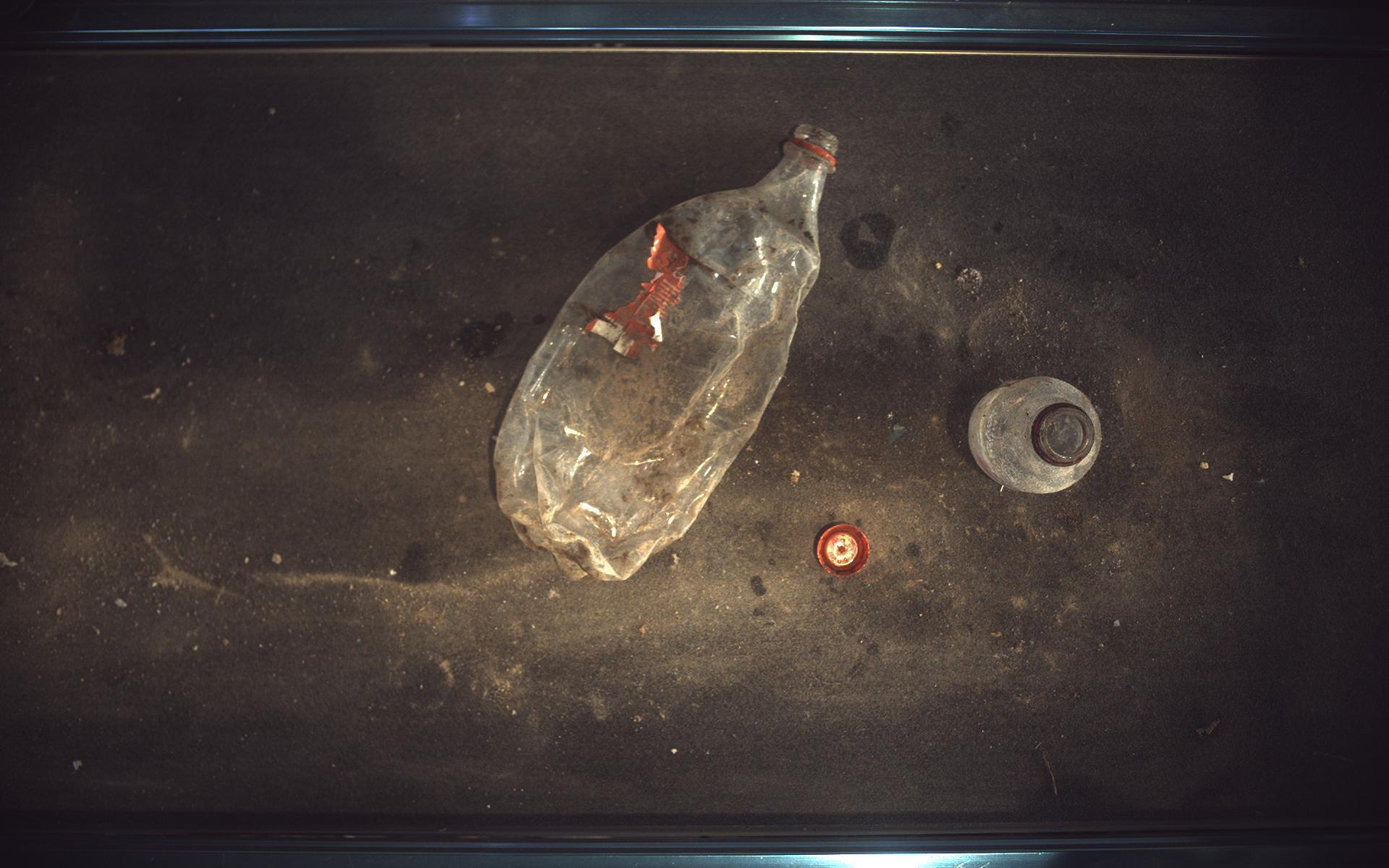general_w: (494, 123, 840, 581), (817, 524, 872, 576)
